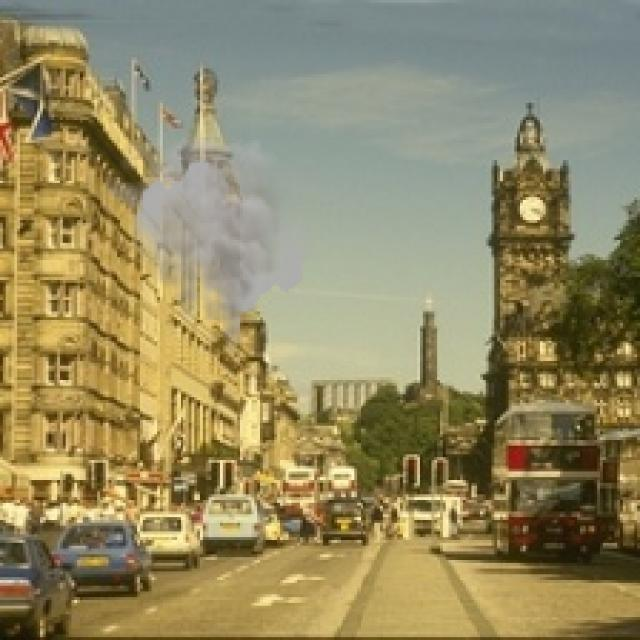Smoke: (103, 128, 314, 358)
